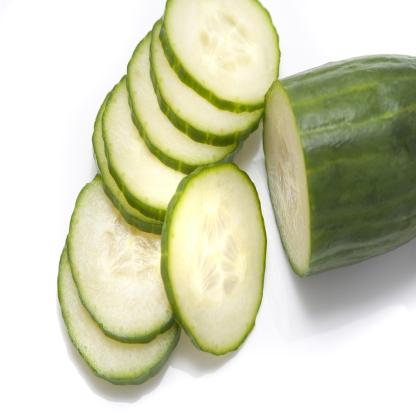--: (57, 0, 280, 387)
